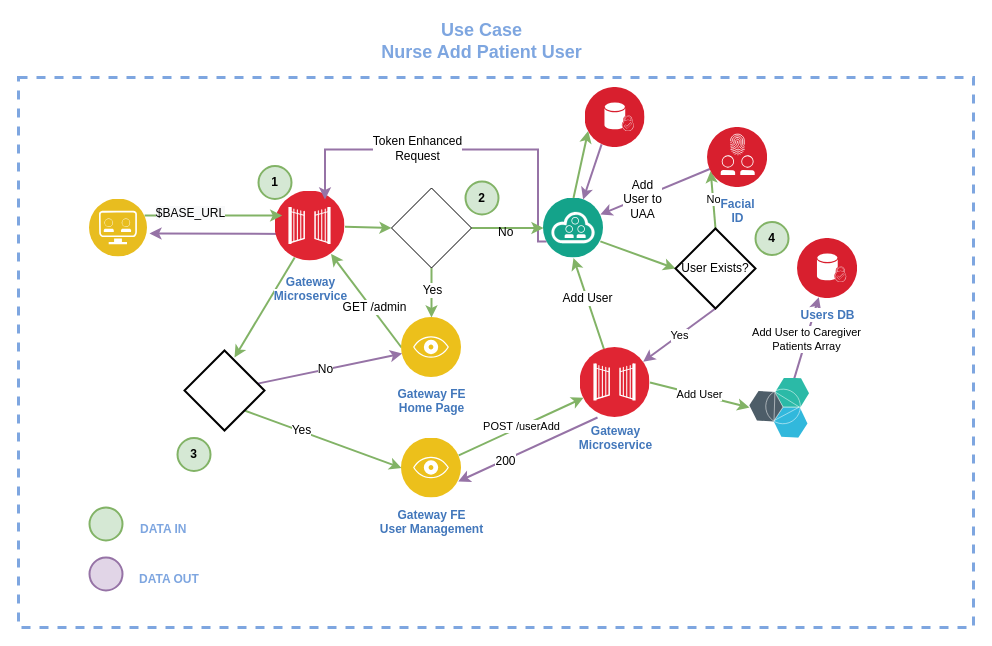
Some shapes in this 992 by 646 pixel diagram are drawn without their labels. Each missing label, with the centre of its shape:
"Browser" goes at pixel 118 227.
"Has Valid Token?" goes at pixel 431 227.
"Token Has Admin Scope?" goes at pixel 224 390.
"UAA DB" goes at pixel 614 117.
"Users Microservice" goes at pixel 779 407.
